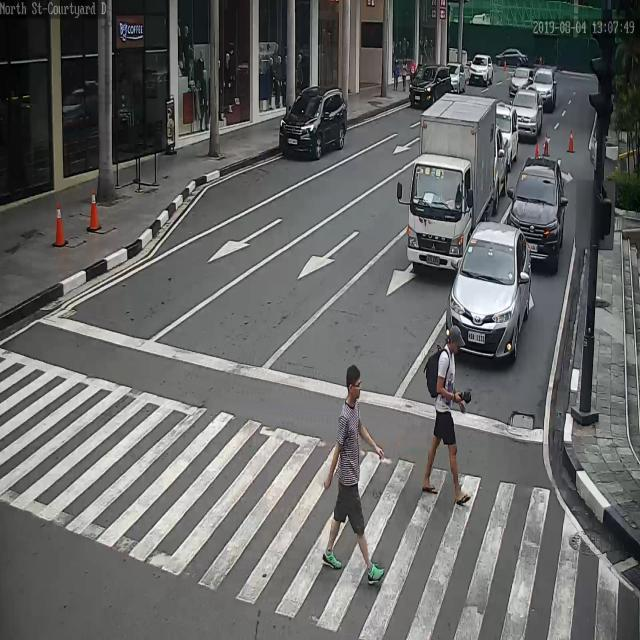car: (448, 221, 532, 364), (507, 157, 567, 270), (279, 86, 348, 160), (409, 64, 451, 109), (496, 100, 518, 167), (513, 88, 542, 137), (494, 126, 510, 212), (533, 69, 556, 111), (469, 54, 493, 87), (509, 66, 532, 98), (494, 47, 529, 68), (446, 64, 466, 92)
motorcycle: (406, 94, 498, 277)
